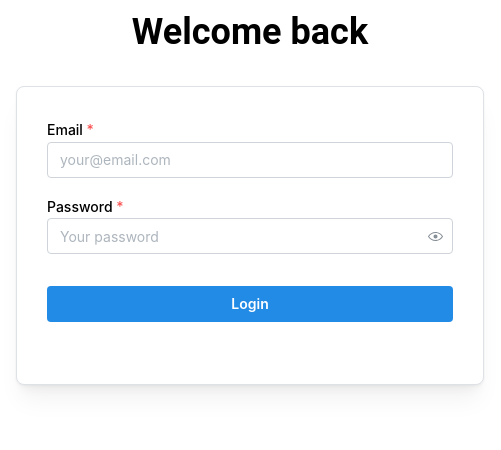
<LoginForm/> › Handling submit test › should not submit and it will show errors if data is not entered
Click the button "Login" at x=250, y=304, box [47, 286, 453, 322]
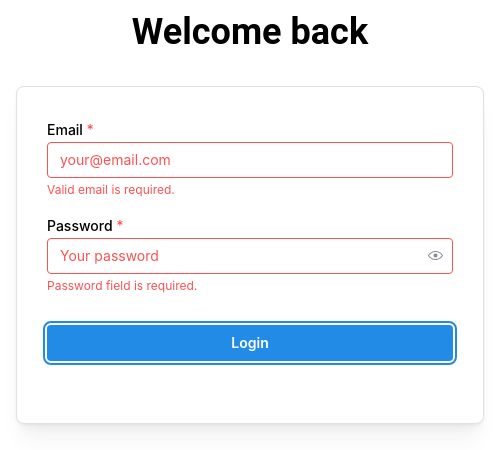
Expected: the text "Valid email is required." is shown, [47, 182, 175, 197]
Expected: the text "Password field is required." is shown, [47, 278, 197, 293]
